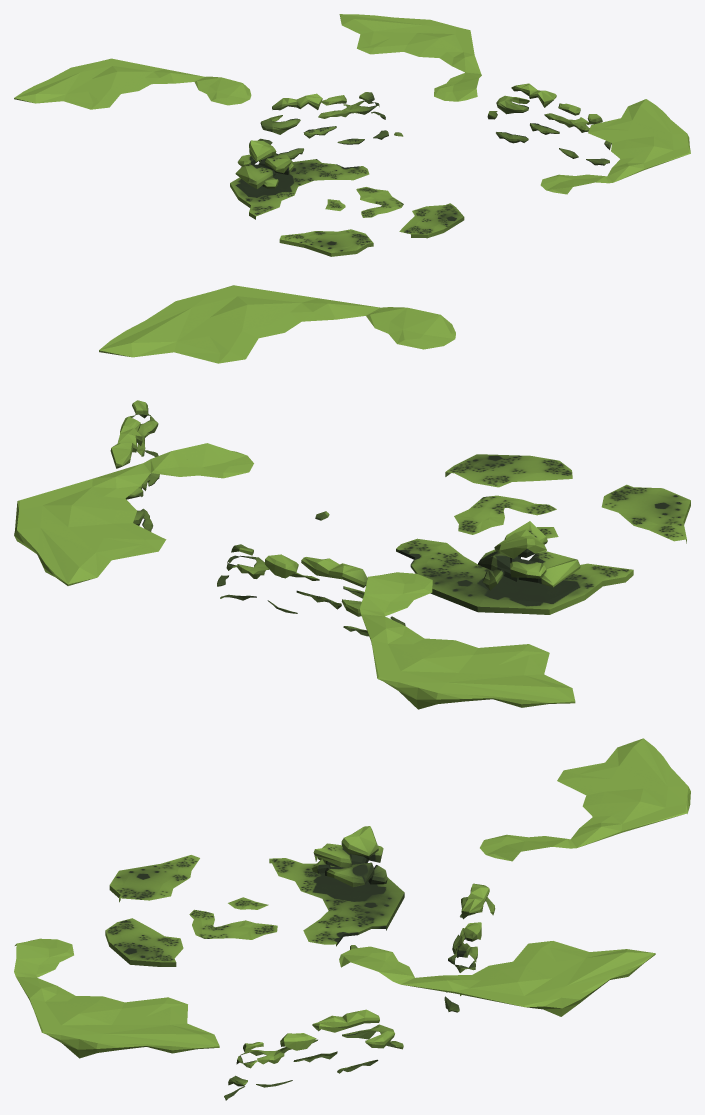
File: Plant_01.FBX
3 renders of one model, top to bottom at view 1: azimuth 30°, elevation 25°; view 2: azimuth 150°, elevation 25°; view 3: azimuth 270°, elevation 25°, orthographic. The views are drawn at different scales.
Visible parts, largest first — view 1: Plant_01; view 2: Plant_01; view 3: Plant_01.
Part boxes in pixels (x1,y1,x2,y2): Plant_01: (14,14,690,256); Plant_01: (14,285,690,709); Plant_01: (14,738,690,1100).
Size of the model in its own units: 54.66 by 7.04 by 50.63.
